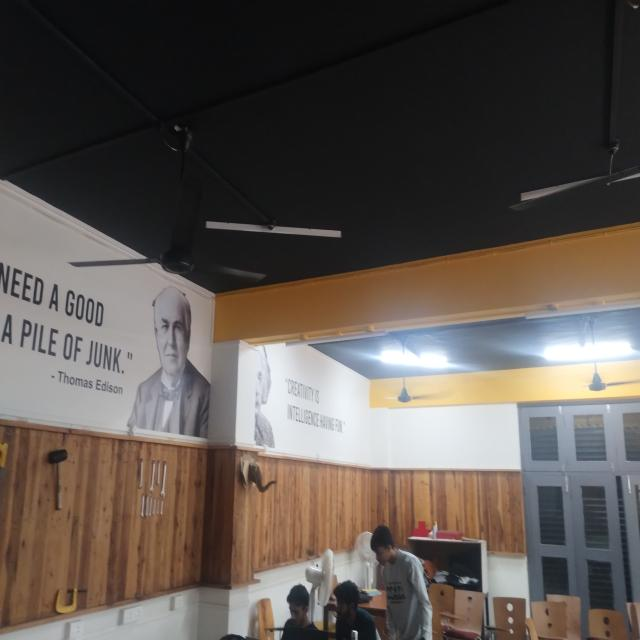fan_off: (68, 122, 274, 289), (506, 155, 640, 221), (554, 316, 640, 391), (356, 339, 445, 408)
tubelight_off: (516, 160, 640, 205), (198, 215, 345, 242), (284, 324, 394, 354), (521, 296, 640, 321)
tubelight_on: (541, 334, 637, 363), (377, 345, 453, 374)
